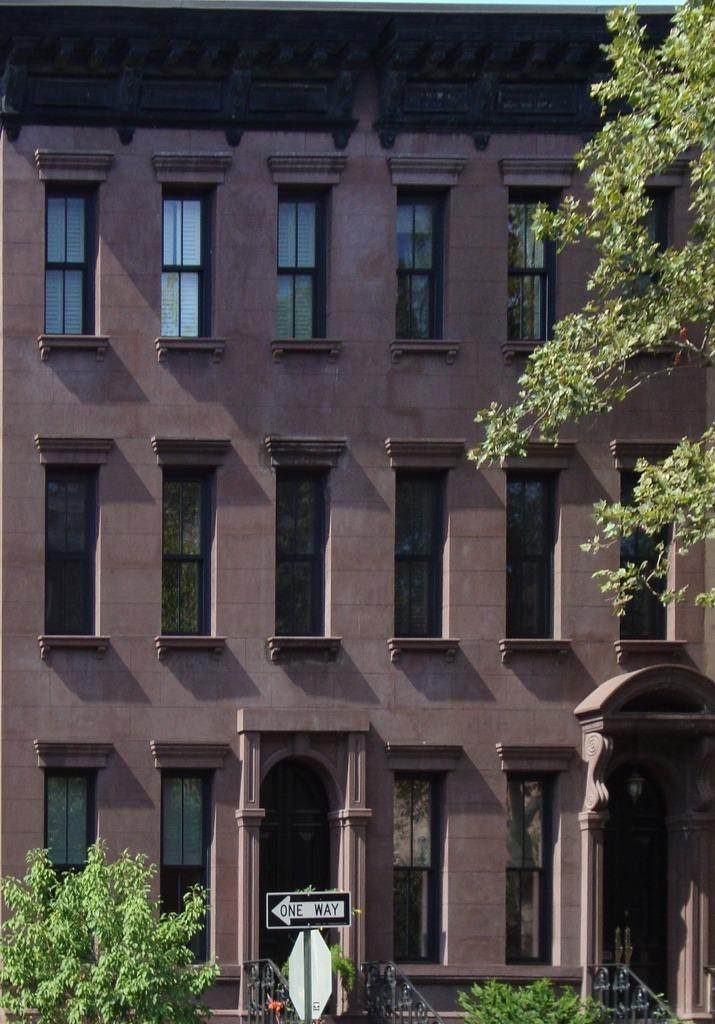window: (394, 772, 448, 967), (160, 767, 214, 962), (43, 770, 97, 965), (506, 774, 560, 968), (278, 468, 332, 638), (397, 471, 451, 641), (508, 474, 562, 644), (624, 471, 678, 641), (48, 465, 99, 639), (165, 468, 216, 642), (398, 188, 454, 343), (46, 182, 102, 336), (160, 184, 216, 338), (276, 187, 332, 341), (625, 187, 681, 341), (508, 193, 563, 347)
